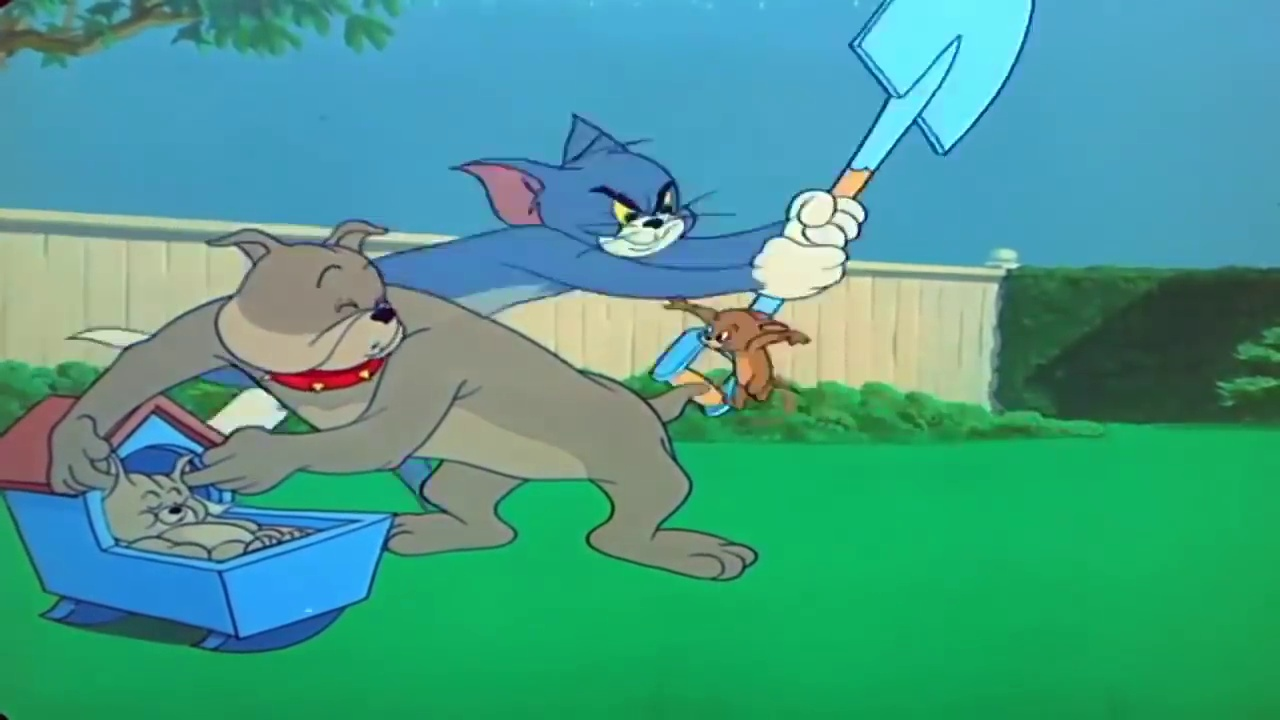spike: (206, 216, 412, 396)
tom: (449, 113, 701, 260)
